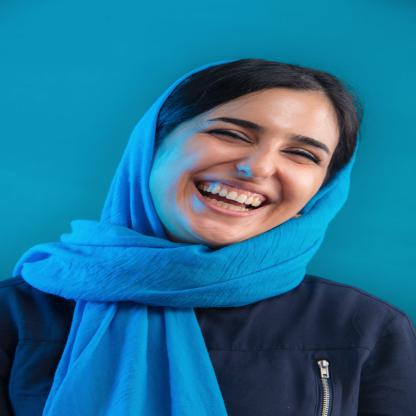Eye: (202, 122, 262, 148), (274, 140, 322, 166)
Mouth: (182, 174, 278, 218)
Nose: (232, 142, 286, 180)
